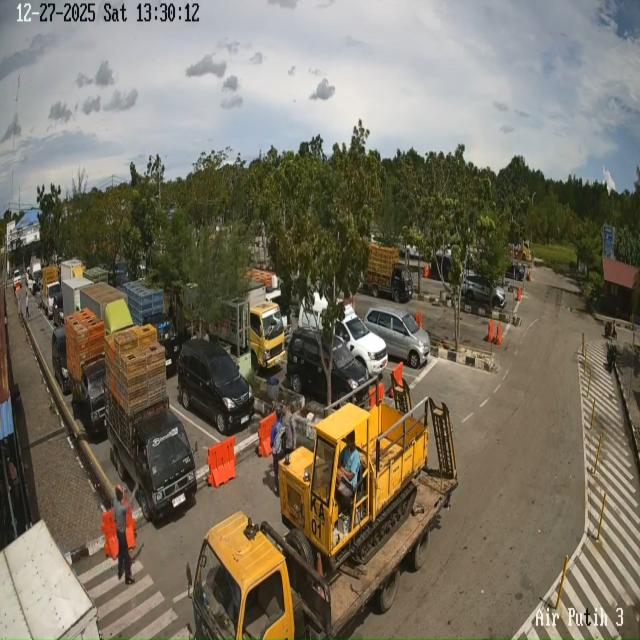Golongan IVA: (177, 338, 255, 435), (286, 327, 370, 404), (364, 306, 430, 368), (462, 273, 506, 309), (51, 326, 71, 394)
Golongan IVB: (107, 380, 201, 522), (364, 243, 414, 303), (71, 356, 109, 430), (41, 266, 61, 318)
Golongan VB: (187, 386, 458, 640)
